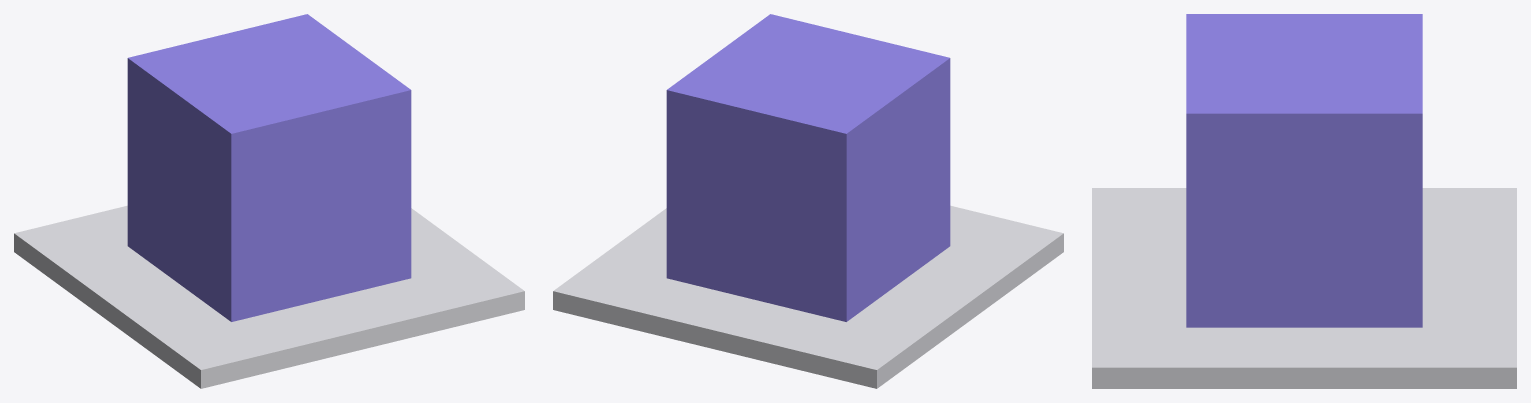
The picture shows the model from 3 angles, left to right: view 1: azimuth 30°, elevation 25°; view 2: azimuth 150°, elevation 25°; view 3: azimuth 270°, elevation 25°; orthographic projection. The views are drawn at different scales.
Visible parts, largest first — view 1: part0, part1; view 2: part0, part1; view 3: part0, part1.
Part boxes in pixels (left/top/right/bottom): part0: left=127, top=14, right=411, bottom=321; part1: left=14, top=205, right=524, bottom=388; part0: left=666, top=14, right=950, bottom=321; part1: left=553, top=205, right=1063, bottom=388; part0: left=1186, top=14, right=1422, bottom=327; part1: left=1092, top=188, right=1516, bottom=388.
Bounding box in the file's own units: 1.8 × 1.1 × 1.8.
